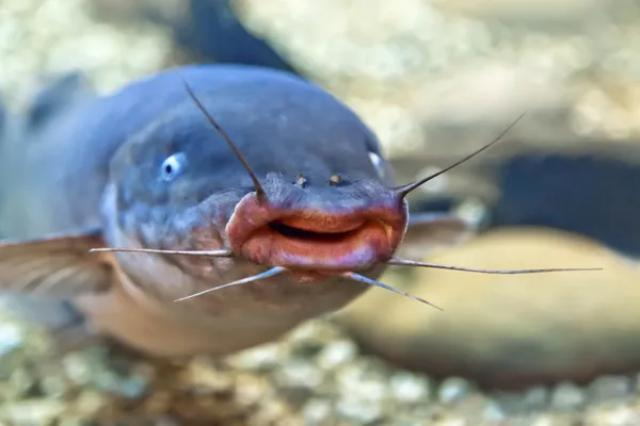Mulut: (194, 155, 446, 307)
Sirip Dada: (0, 208, 132, 324)
